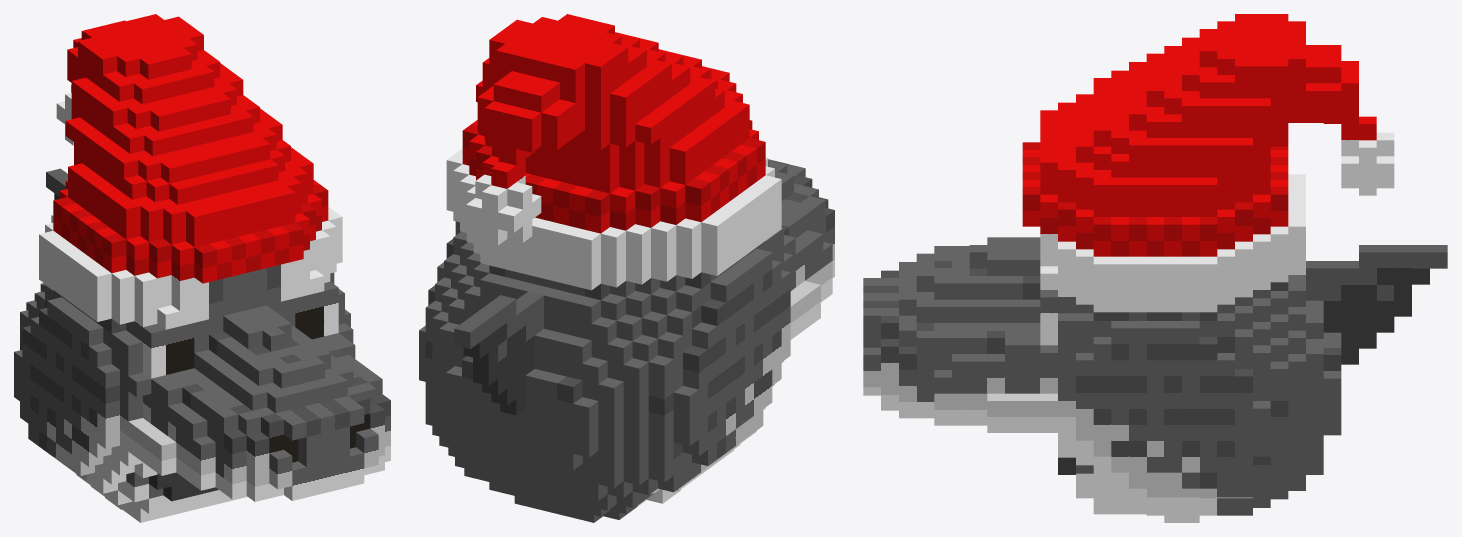
File: santa hat_skydiving goggles.gltf
The picture shows the model from 3 angles, left to right: view 1: azimuth 30°, elevation 25°; view 2: azimuth 150°, elevation 25°; view 3: azimuth 270°, elevation 25°; orthographic projection. The views are drawn at different scales.
Visible parts, largest first — view 1: C49_H_Santa_SkyDiving-Mesh; view 2: C49_H_Santa_SkyDiving-Mesh; view 3: C49_H_Santa_SkyDiving-Mesh.
Part boxes in pixels (x1,y1,x2,y2): C49_H_Santa_SkyDiving-Mesh: (14,14,390,522); C49_H_Santa_SkyDiving-Mesh: (419,14,834,522); C49_H_Santa_SkyDiving-Mesh: (863,14,1447,522).
Size of the model in its own units: 17 by 28 by 33.
Materials: 1 (1 with a texture image).
